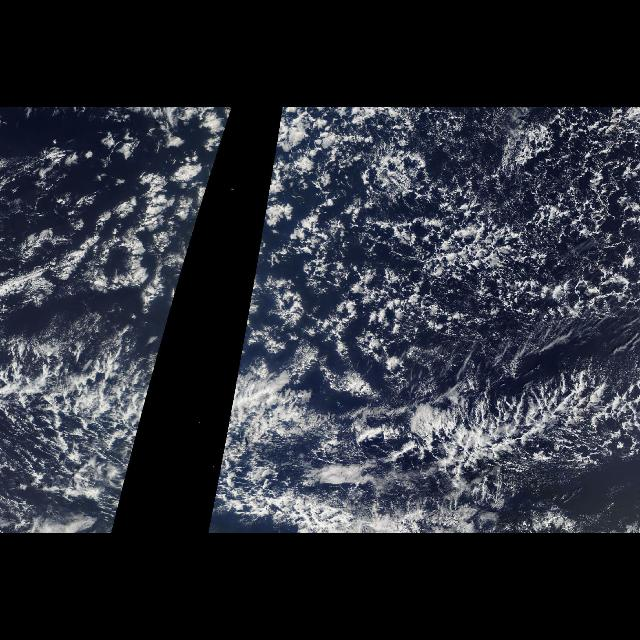Fish: (340, 358, 640, 504)
Flower: (42, 114, 232, 350), (241, 114, 305, 350)
Gravel: (304, 108, 640, 352)
